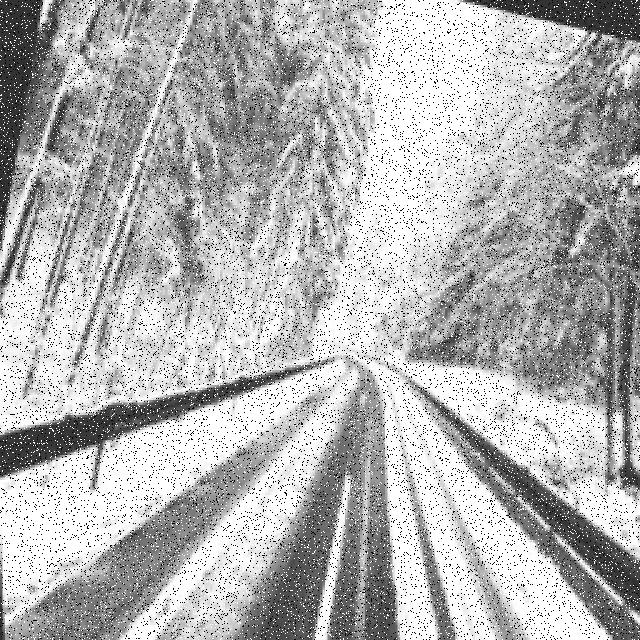clear-road: (0, 357, 526, 640)
